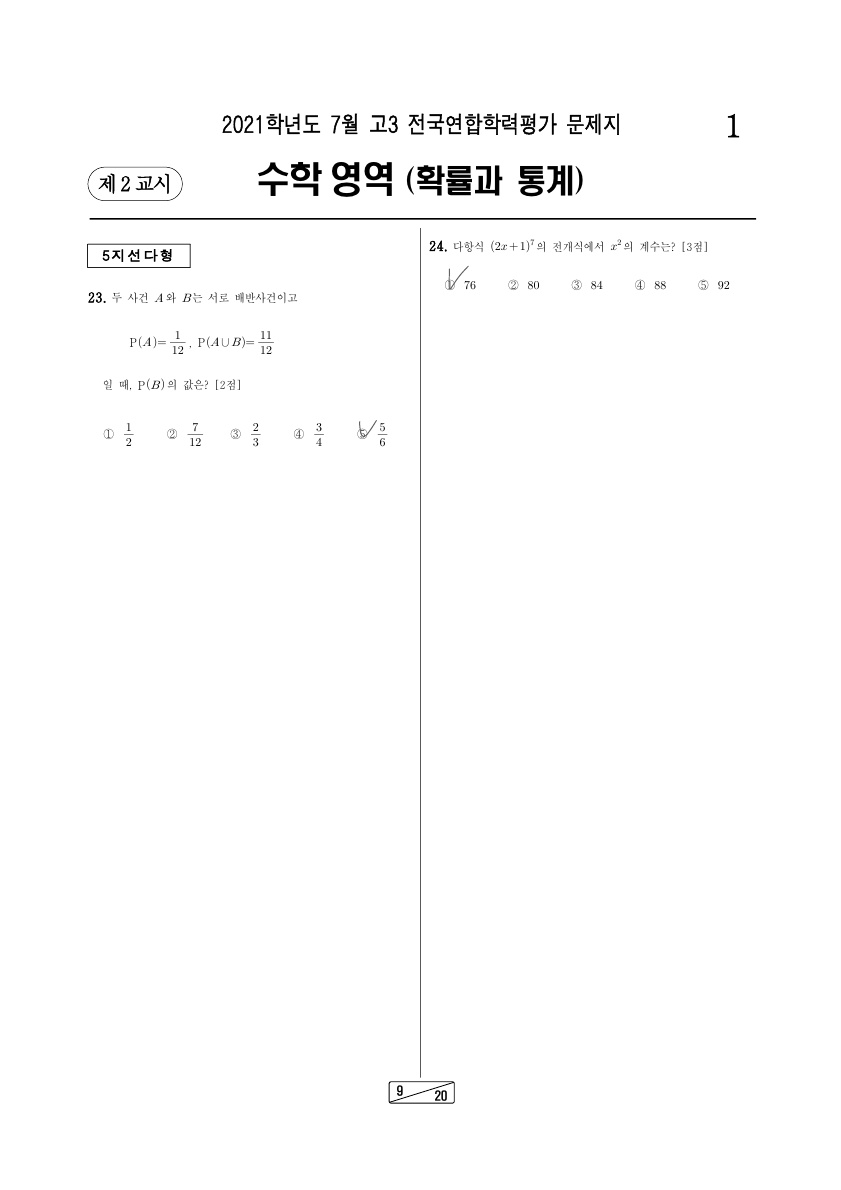question: (78, 280, 401, 462), (423, 225, 742, 310)
